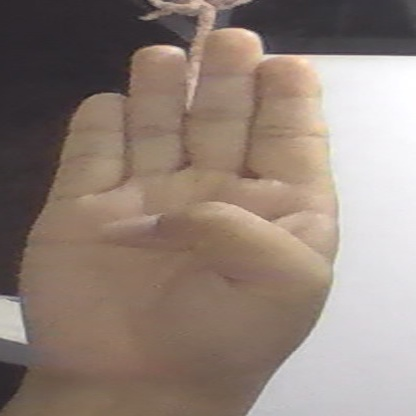B: (20, 28, 339, 402)
